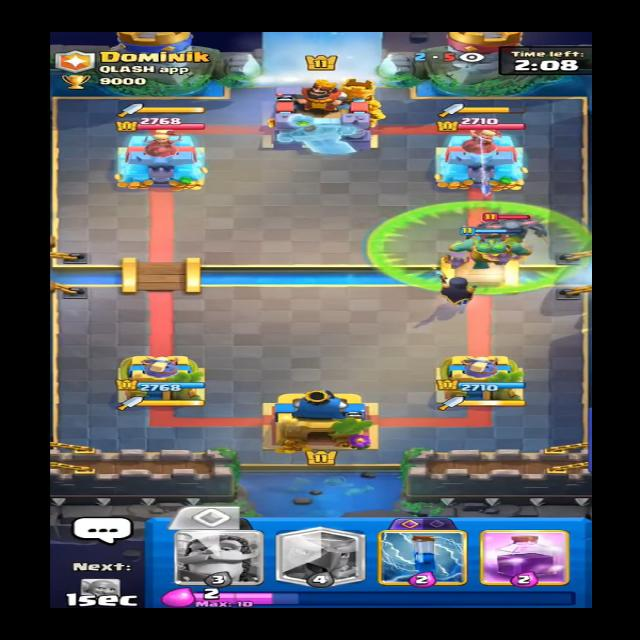pekka: (467, 202, 555, 244)
